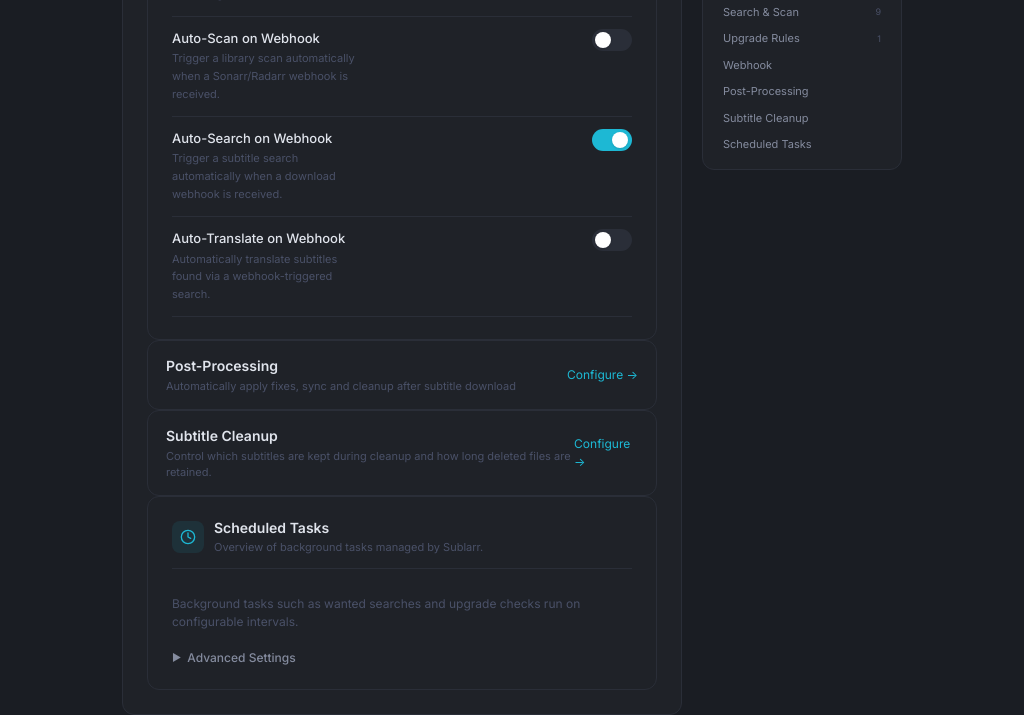
Test: AutomationSettings › Scheduled Tasks expands and shows content after clicking toggle
(page scrolled)
Click the button with test id "settings-section-advanced-toggle" at point(234, 653), box [172,639,296,667]
(page scrolled)
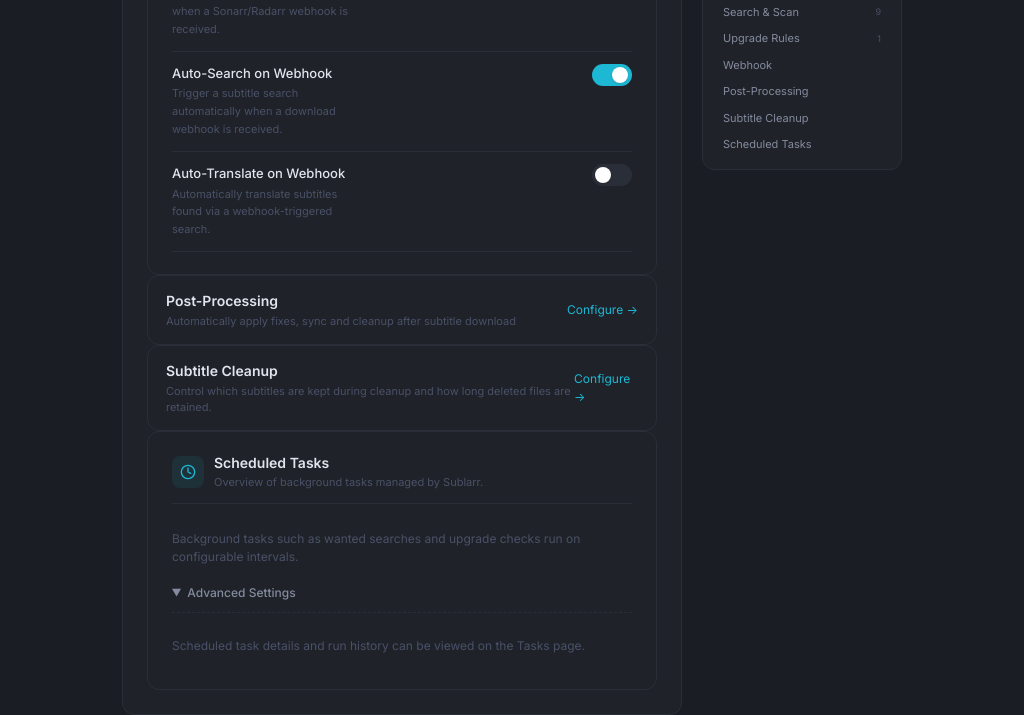
Now the element with test id "settings-section-advanced-content" is shown, box [172,612,632,667]
Now the element with test id "scheduled-tasks-content" is shown, box [172,638,585,653]
